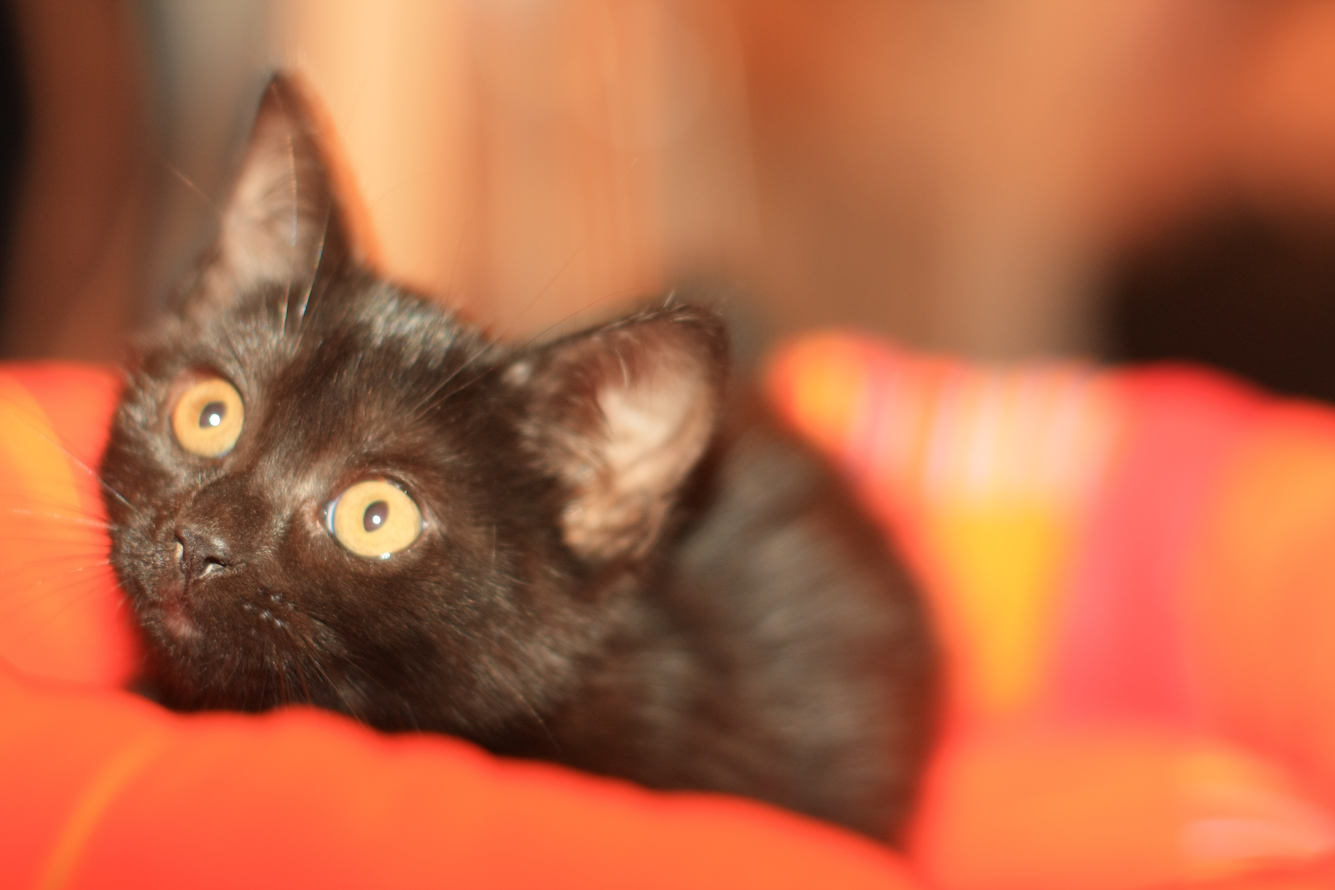cat: (0, 63, 963, 855)
